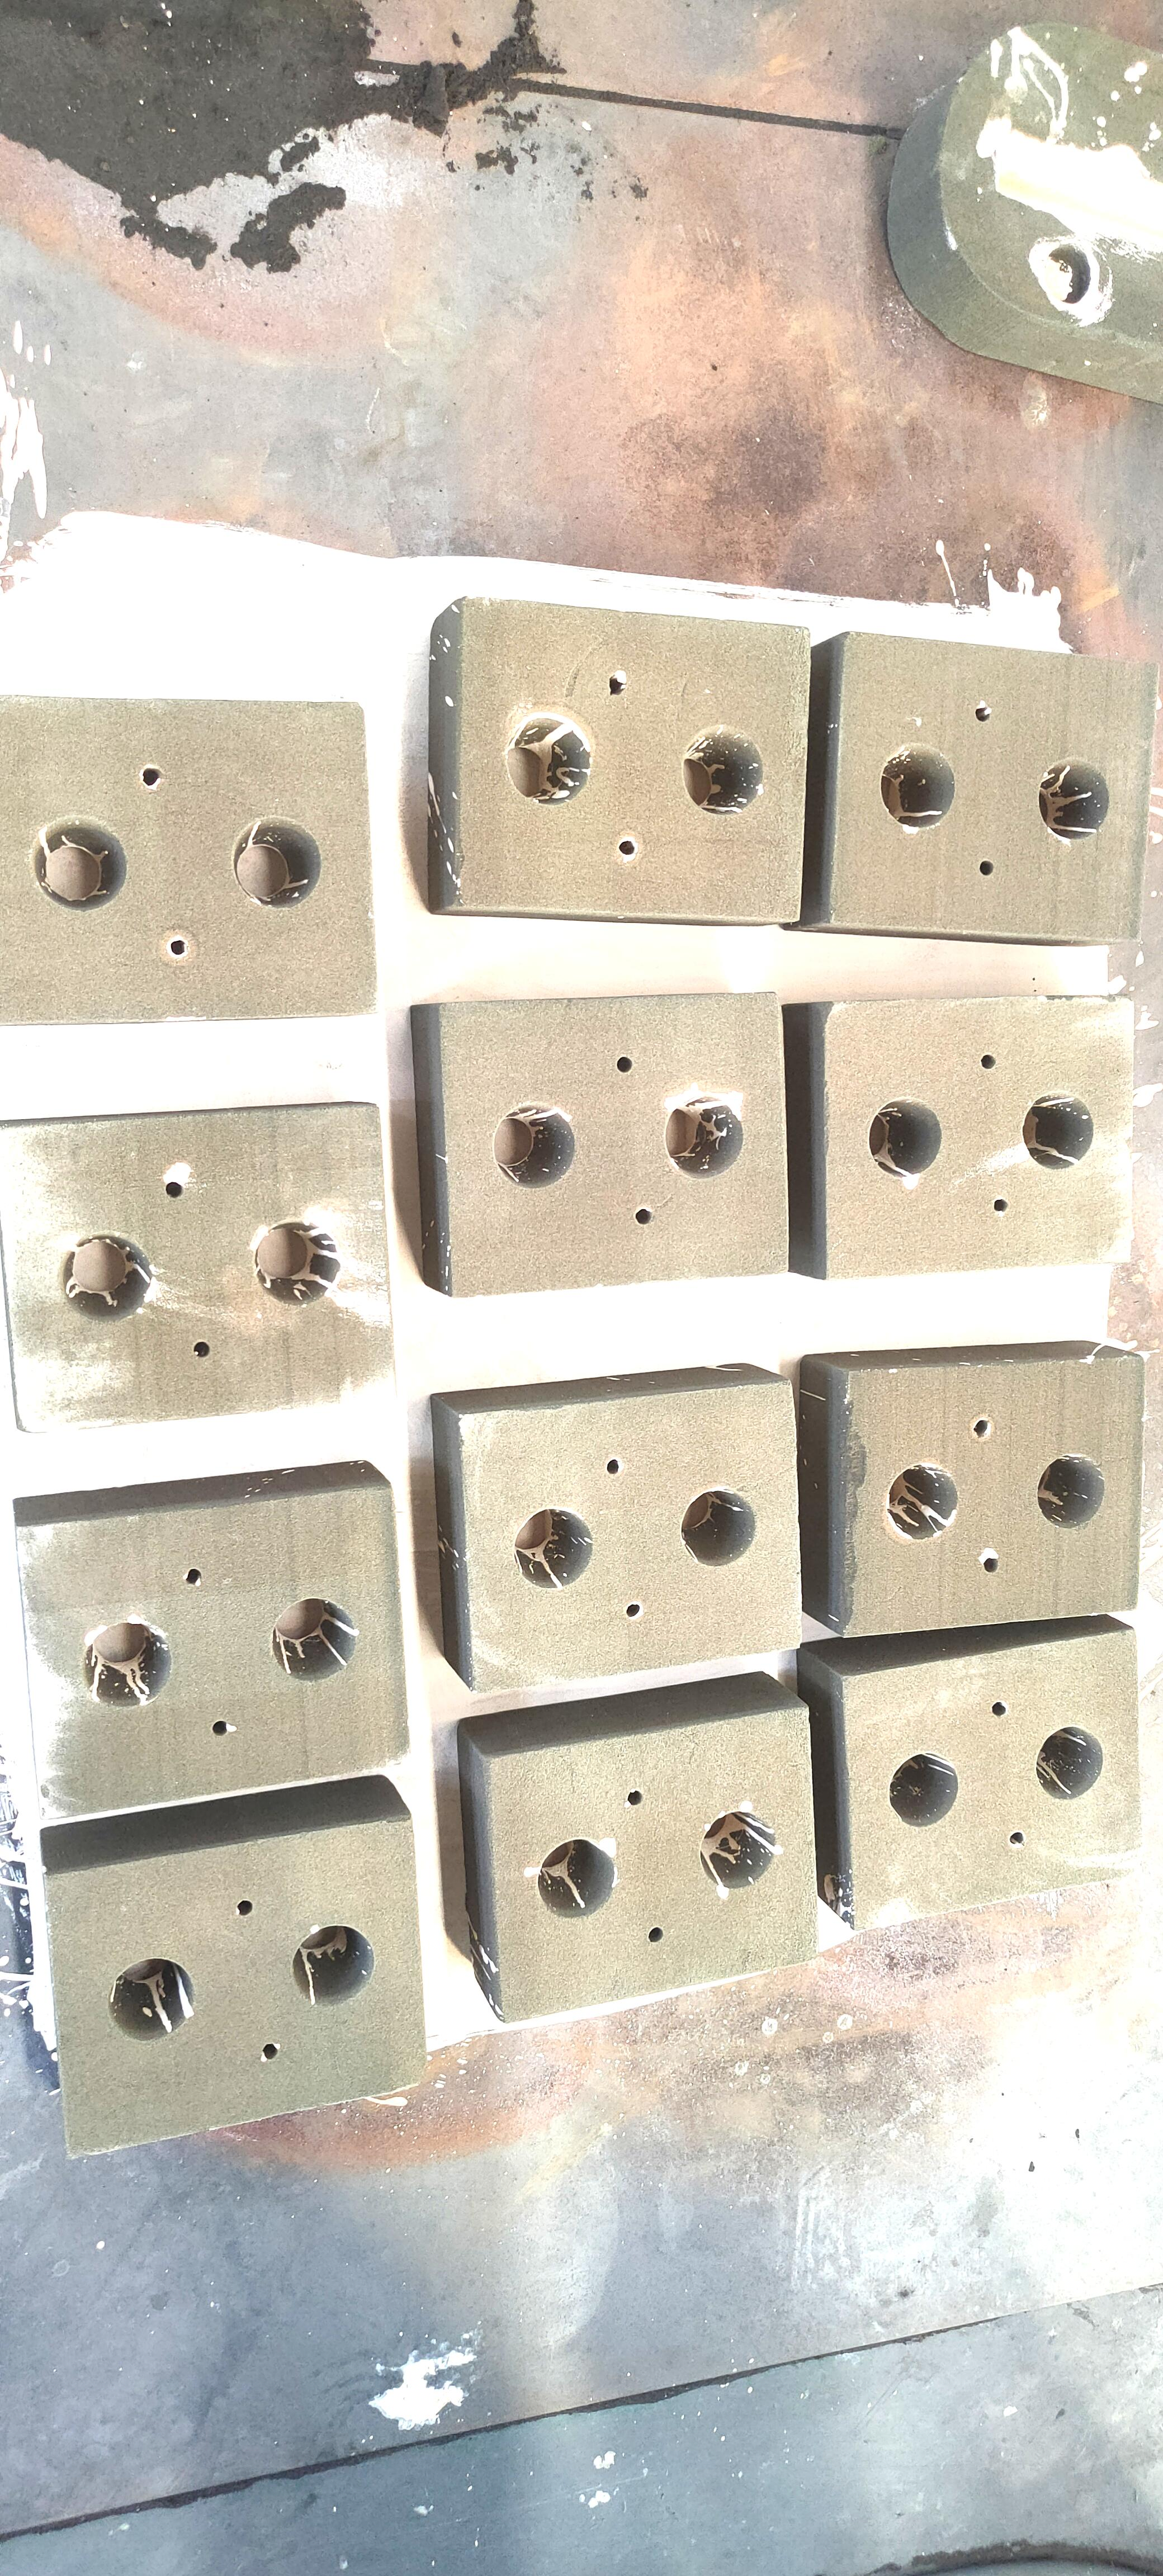pouring hole: (30, 815, 128, 912), (59, 1232, 151, 1324), (232, 817, 322, 910), (504, 713, 591, 805), (105, 1957, 195, 2044), (80, 1622, 171, 1707), (268, 1597, 356, 1682), (680, 724, 764, 813), (255, 1219, 338, 1306), (494, 1101, 575, 1189), (292, 1924, 375, 2008), (664, 1093, 742, 1180), (879, 743, 956, 828), (511, 1510, 591, 1590), (537, 1838, 616, 1919), (680, 1488, 756, 1567), (869, 1096, 943, 1176), (1040, 756, 1109, 841), (700, 1812, 775, 1888), (887, 1462, 956, 1543), (1023, 1091, 1092, 1170), (1037, 1454, 1106, 1529), (889, 1751, 958, 1827), (1037, 1727, 1102, 1801)
